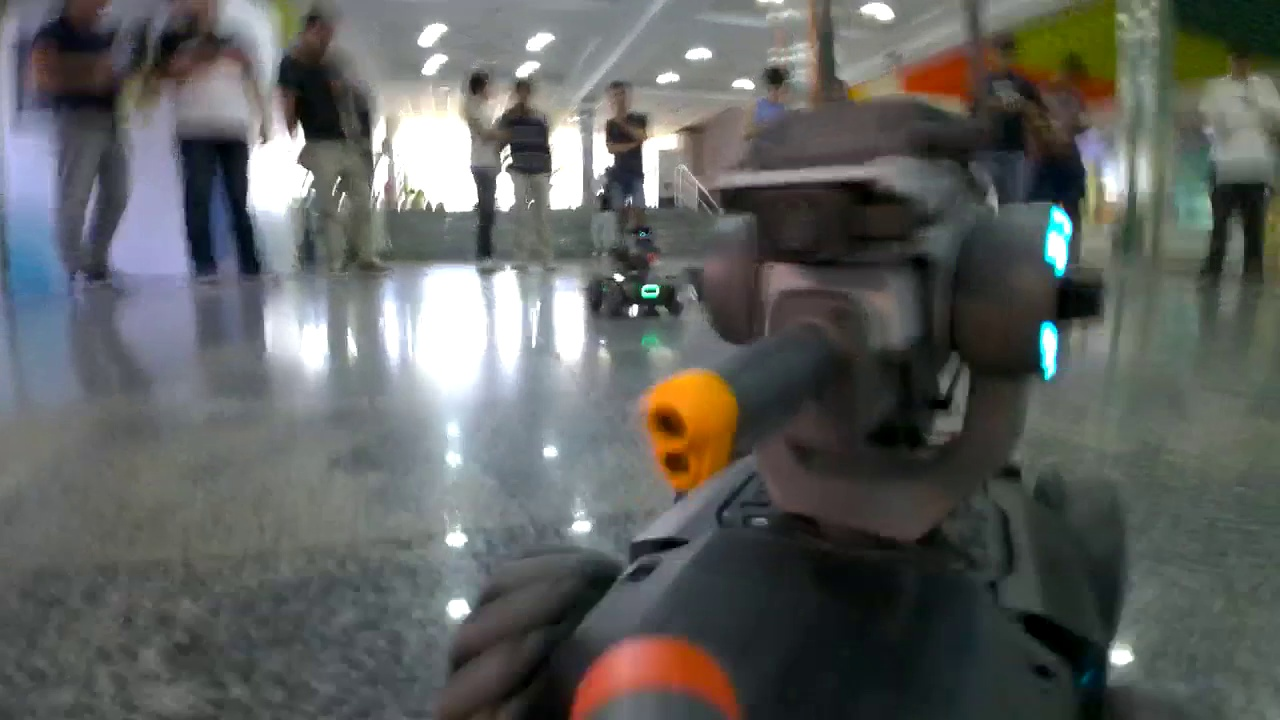robot: (445, 4, 1127, 720), (589, 227, 678, 321)
